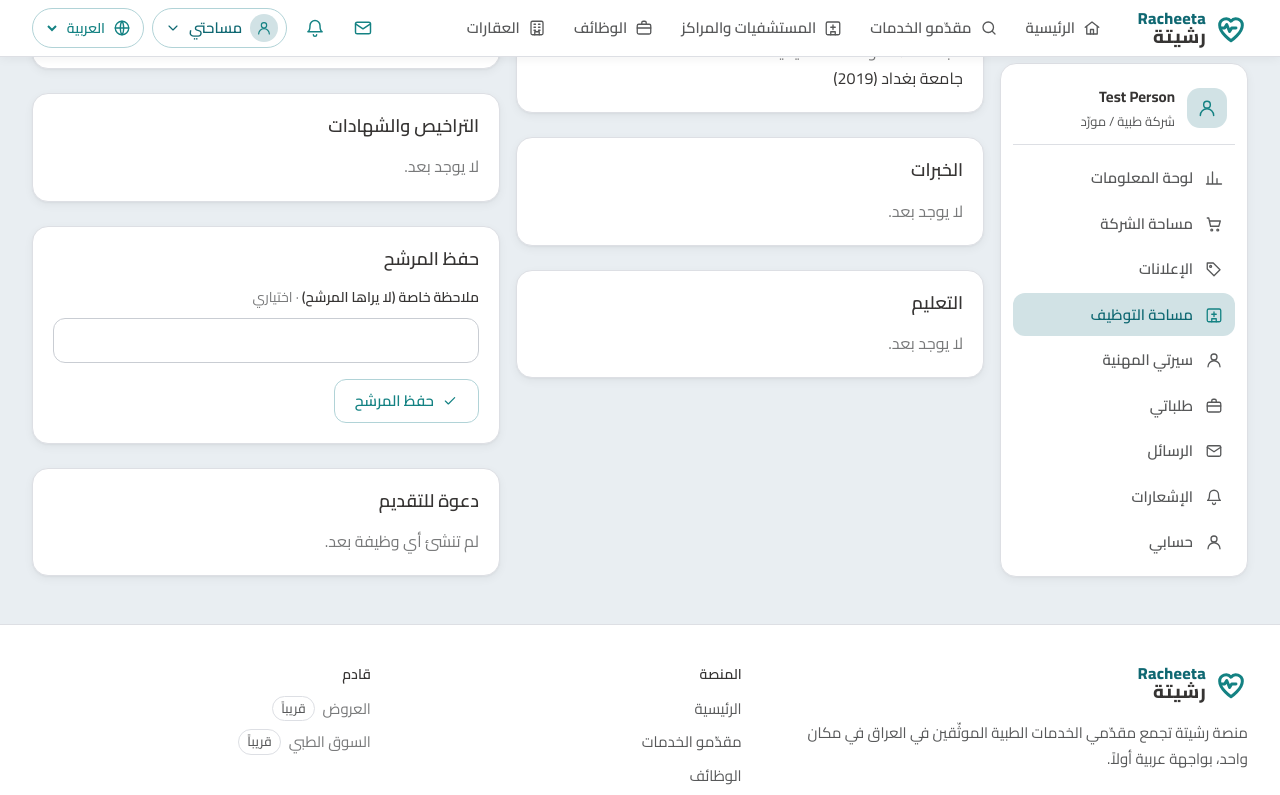
Test case: Talent search › save and unsave › saves with the loading contract and then shows the remove action
(page scrolled)
Click the button "حفظ المرشح". click: (406, 401)
box: top-left (334, 379), bottom-right (479, 423)
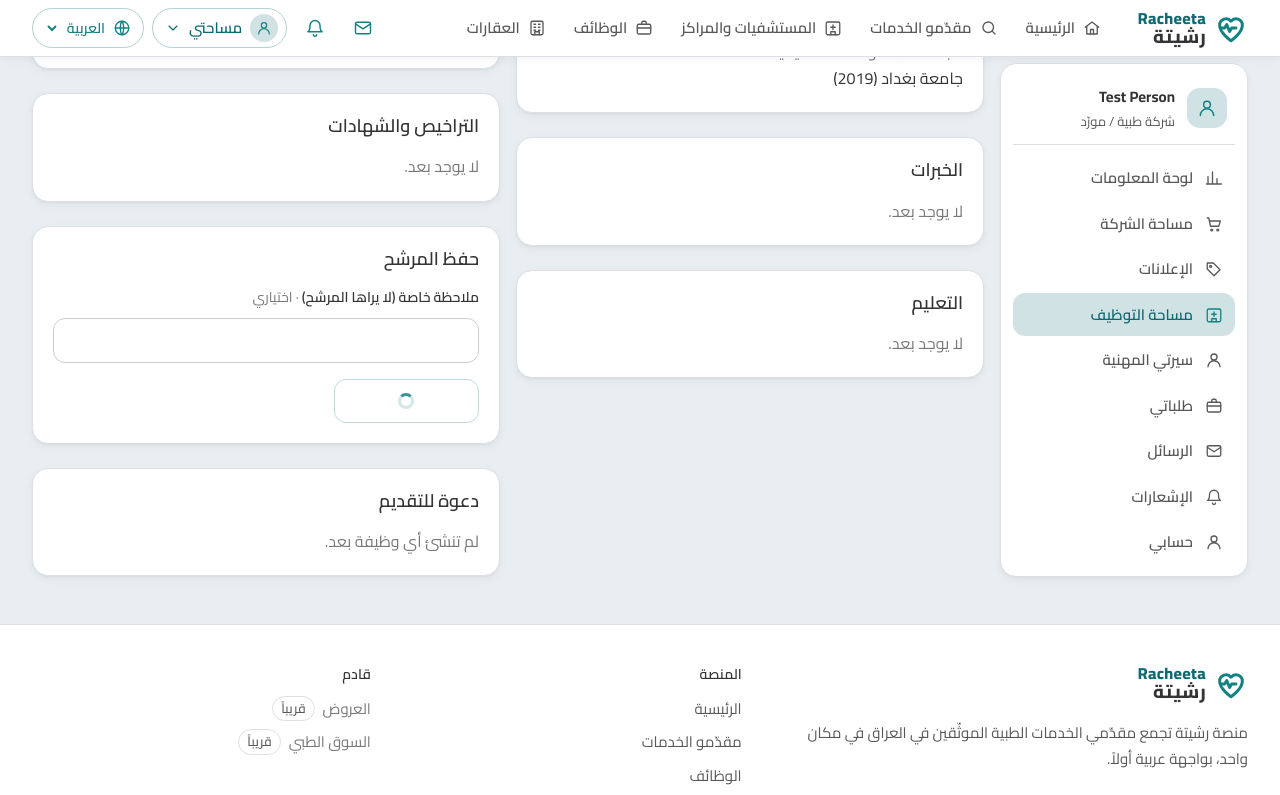
expect the 2nd button is disabled: met
Click the 2nd button. click: (406, 401)
box: top-left (334, 379), bottom-right (479, 423)
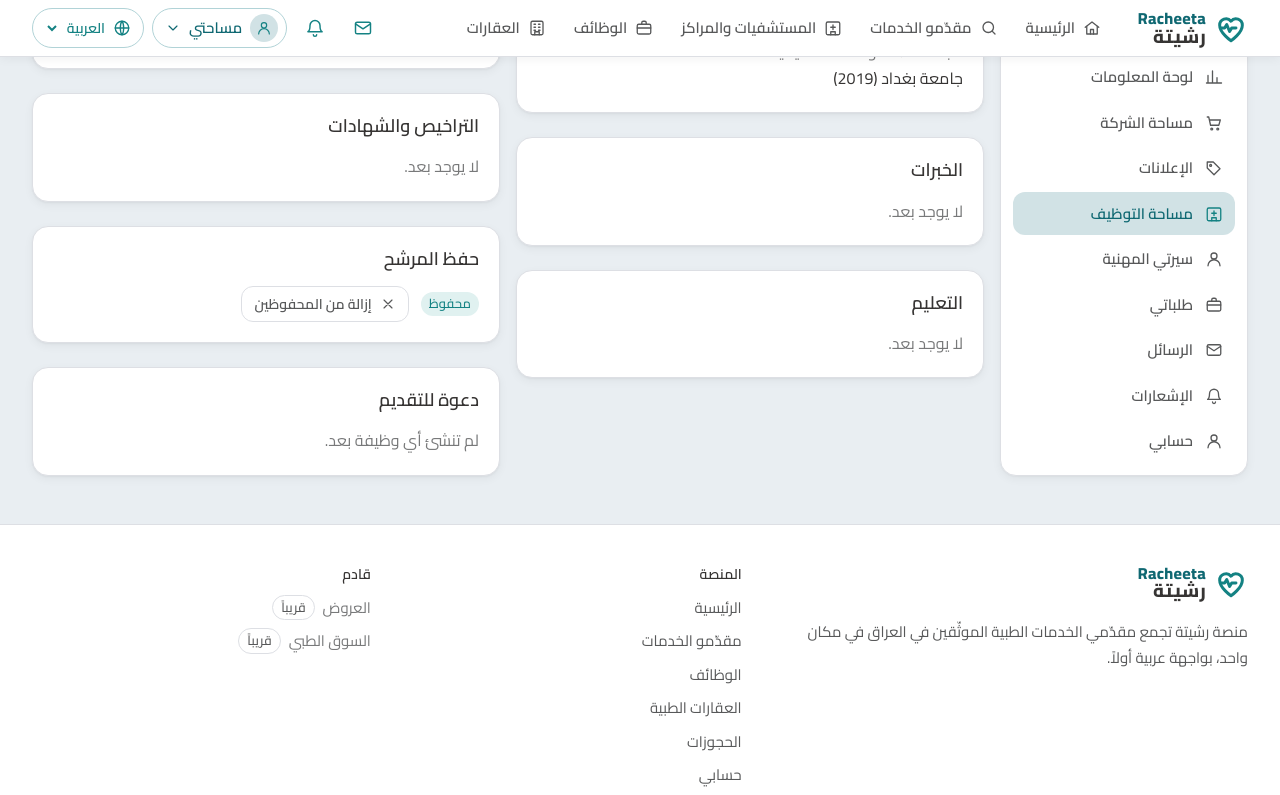
expect the button "إزالة من المحفوظين" is shown: met, box top-left (241, 286), bottom-right (409, 322)
